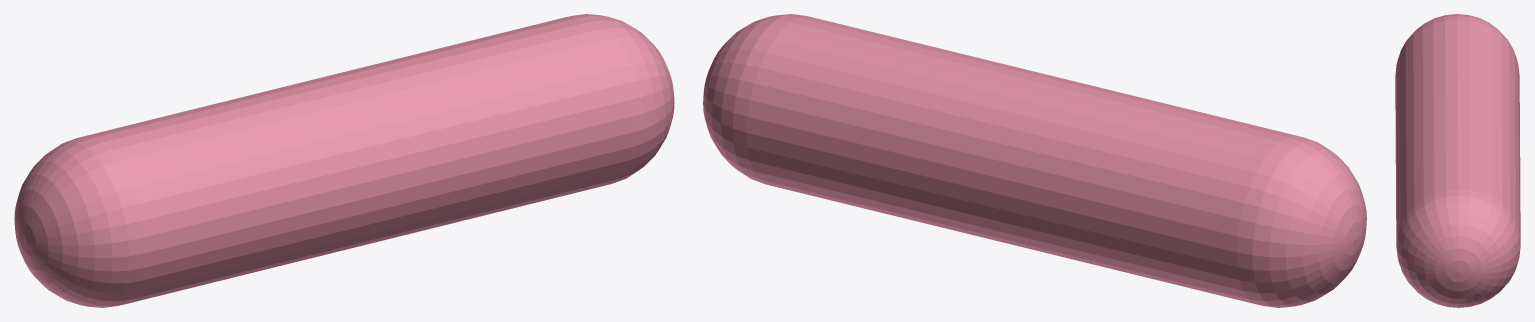
The model's file is Sausage3.glb.
3 views of the same model, side by side, from view 1: azimuth 30°, elevation 25°; view 2: azimuth 150°, elevation 25°; view 3: azimuth 270°, elevation 25° (orthographic). The views are drawn at different scales.
Parts seen in each view (by area): view 1: Sphere.001; view 2: Sphere.001; view 3: Sphere.001.
Part boxes in pixels (x1,y1,x2,y2): Sphere.001: [14, 14, 674, 307]; Sphere.001: [703, 14, 1366, 307]; Sphere.001: [1395, 14, 1520, 307].
Size of the model in its own units: 8.48 by 2.01 by 2.02.
